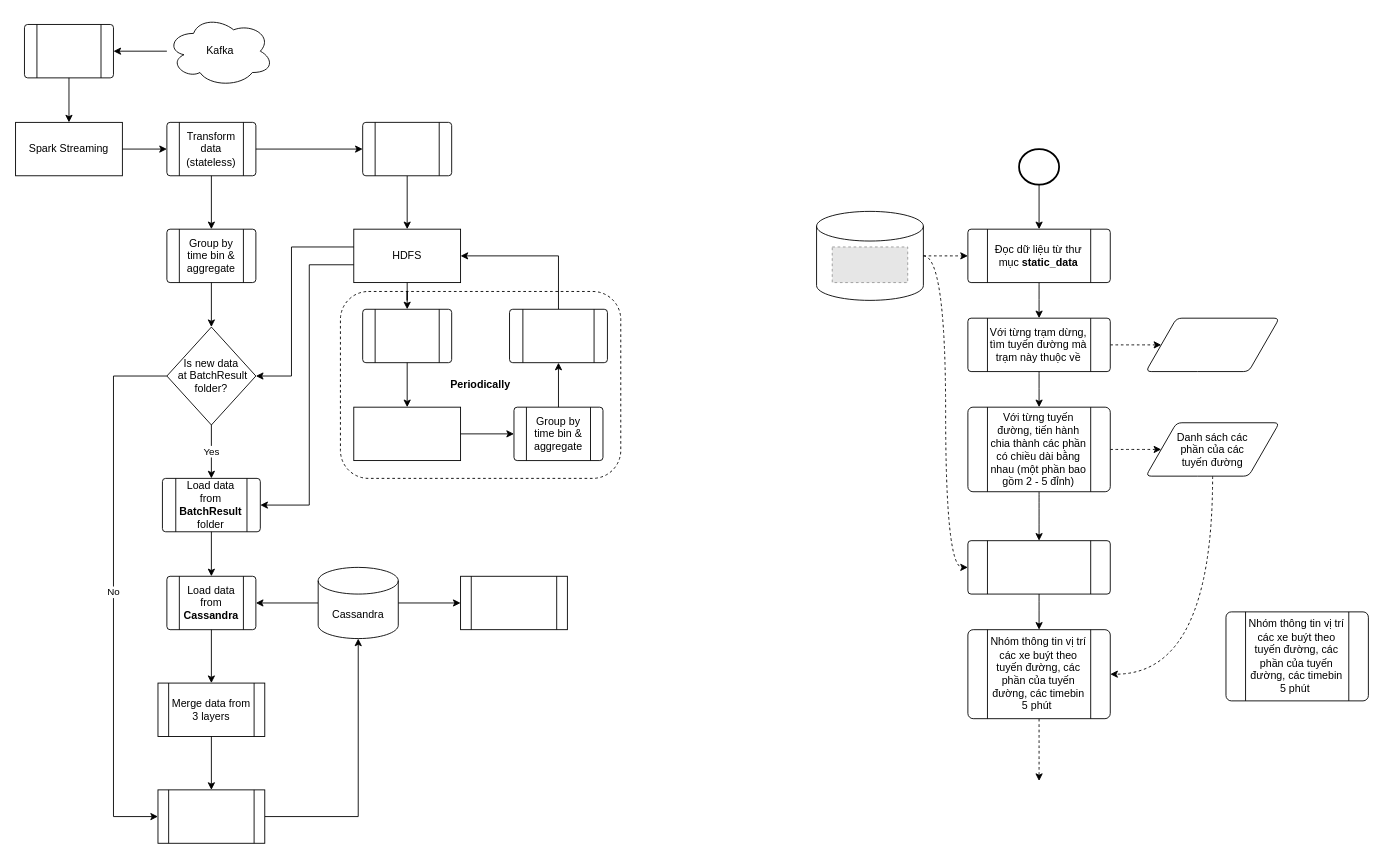
Some shapes in this 1384 by 859 pixel diagram are drawn without their labels. Grey dashed boxes stand in for pictures. The centre of each missing label's shape, as x and y in pixels:
Append data to Data folder: the point at 407,148
Consume messages: the point at 68,51
Danh sách trạm dừng với mỗi tuyến đường: the point at 1212,344
Load all data from Data folder: the point at 407,335
Periodically load data from Cassandra & visuallize: the point at 513,602
Replace all data at BatchResult folder: the point at 558,335
Spark Core (Batch processing): the point at 407,433
Upsert data to Cassandra: the point at 211,816
Đọc dữ liệu từ thư mục historical_data: the point at 1038,567
